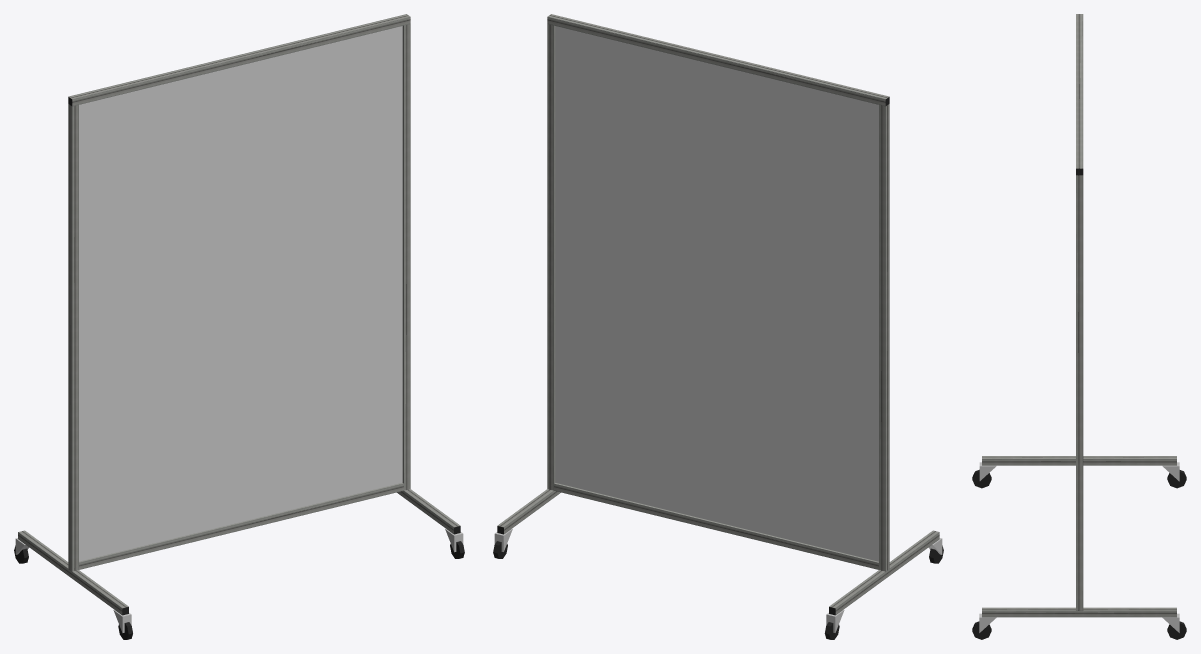
Rendered from polycarbonate_panel_1_5m.dae.
3 views of the same model, side by side, from view 1: azimuth 30°, elevation 25°; view 2: azimuth 150°, elevation 25°; view 3: azimuth 270°, elevation 25° (orthographic). The views are drawn at different scales.
Visible parts, largest first — view 1: instance_0, instance_5; view 2: instance_0, instance_5; view 3: instance_5.
Part boxes in pixels (<box>): instance_0: <box>79,26,402,561</box>; instance_5: <box>18,14,460,614</box>; instance_0: <box>555,26,878,561</box>; instance_5: <box>497,14,939,614</box>; instance_5: <box>982,14,1176,617</box>.
Bounding box in the file's own units: 59.45 × 34.65 × 84.06.
